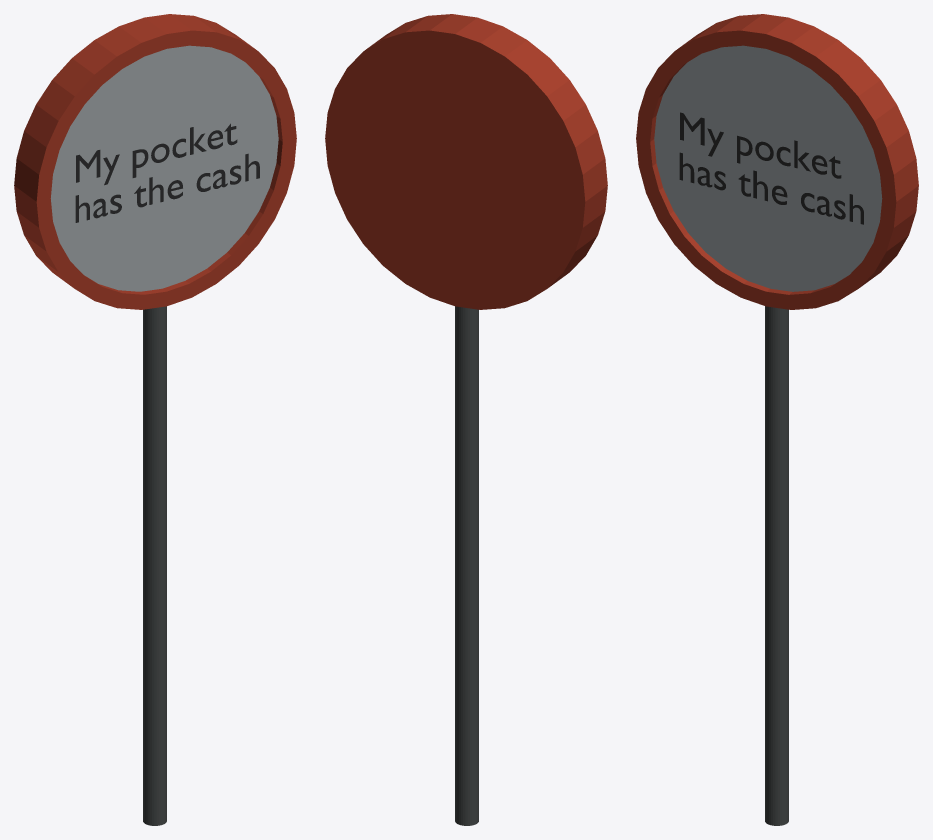
Rendered from mp_sign2.gltf.
3 renders of one model, left to right at view 1: azimuth 30°, elevation 25°; view 2: azimuth 150°, elevation 25°; view 3: azimuth 330°, elevation 25°, orthographic.
Visible parts, largest first — view 1: Cylinder, Cylinder.001, Text.001; view 2: Cylinder, Cylinder.001; view 3: Cylinder, Cylinder.001, Text.001.
Part boxes in pixels (x1=…): Cylinder: x1=14, y1=14, x2=296, y2=309; Cylinder.001: x1=143, y1=306, x2=166, y2=825; Text.001: x1=75, y1=123, x2=259, y2=222; Cylinder: x1=325, y1=14, x2=607, y2=309; Cylinder.001: x1=455, y1=306, x2=478, y2=825; Cylinder: x1=636, y1=14, x2=918, y2=309; Cylinder.001: x1=765, y1=306, x2=788, y2=825; Text.001: x1=679, y1=112, x2=863, y2=224.
Size of the model in its own units: 1.7 by 4.96 by 0.2553.
